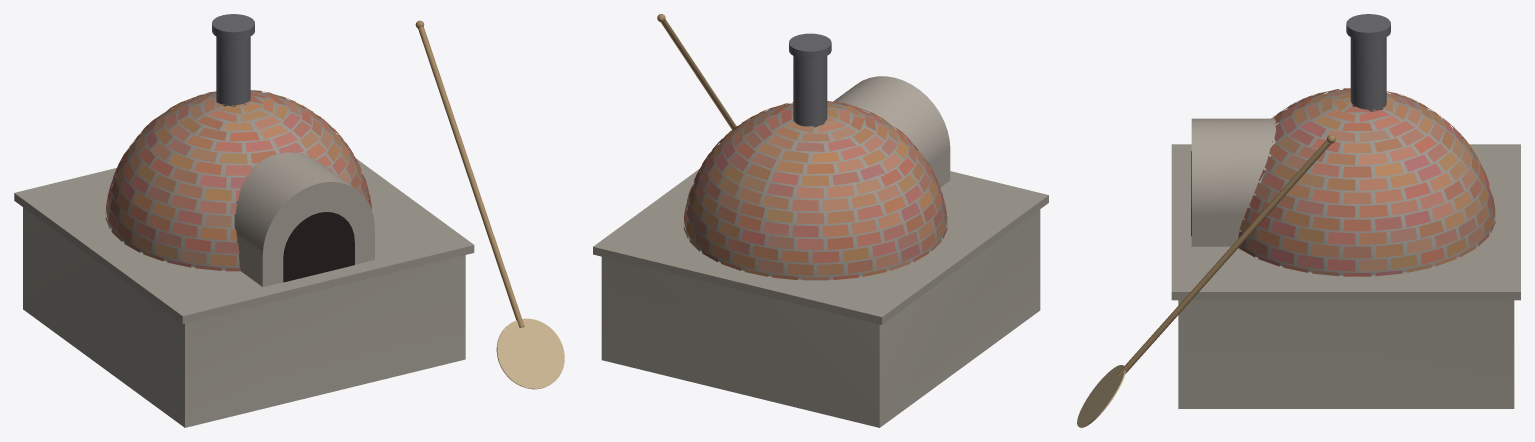
Rendered from pizza_pec.glb.
3 renders of one model, left to right at view 1: azimuth 30°, elevation 25°; view 2: azimuth 150°, elevation 25°; view 3: azimuth 270°, elevation 25°, orthographic. The views are drawn at different scales.
Visible parts, largest first — view 1: pizza_oven_and_peel; view 2: pizza_oven_and_peel; view 3: pizza_oven_and_peel.
Boxes of the visible parts, x1=… form: pizza_oven_and_peel: x1=14, y1=14, x2=564, y2=427; pizza_oven_and_peel: x1=593, y1=14, x2=1048, y2=427; pizza_oven_and_peel: x1=1077, y1=14, x2=1520, y2=427.
Size of the model in its own units: 1.85 by 1.55 by 1.98.
